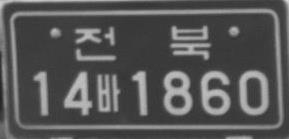0: (238, 68, 270, 116)
1: (28, 70, 58, 116), (127, 69, 155, 116)
4: (63, 70, 93, 116)
6: (200, 69, 232, 115)
8: (162, 69, 193, 116)
바: (97, 73, 120, 112)
전북_D: (74, 24, 211, 61)
